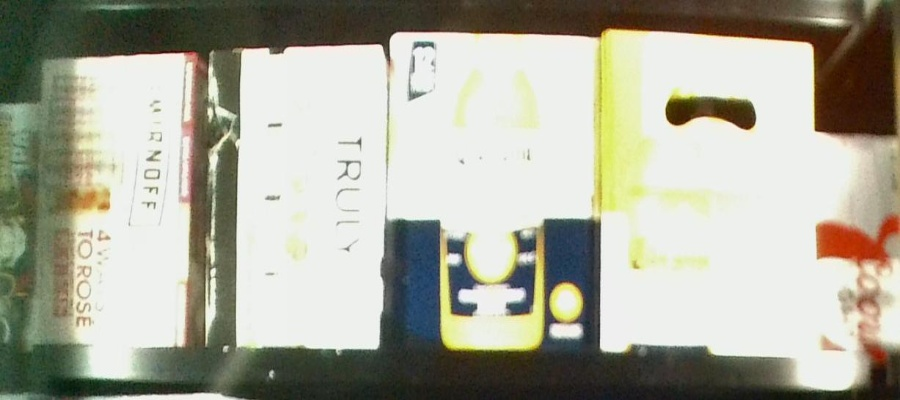bottle: (602, 27, 815, 359), (389, 27, 600, 355), (213, 47, 385, 350), (34, 52, 205, 349), (817, 136, 898, 350)
